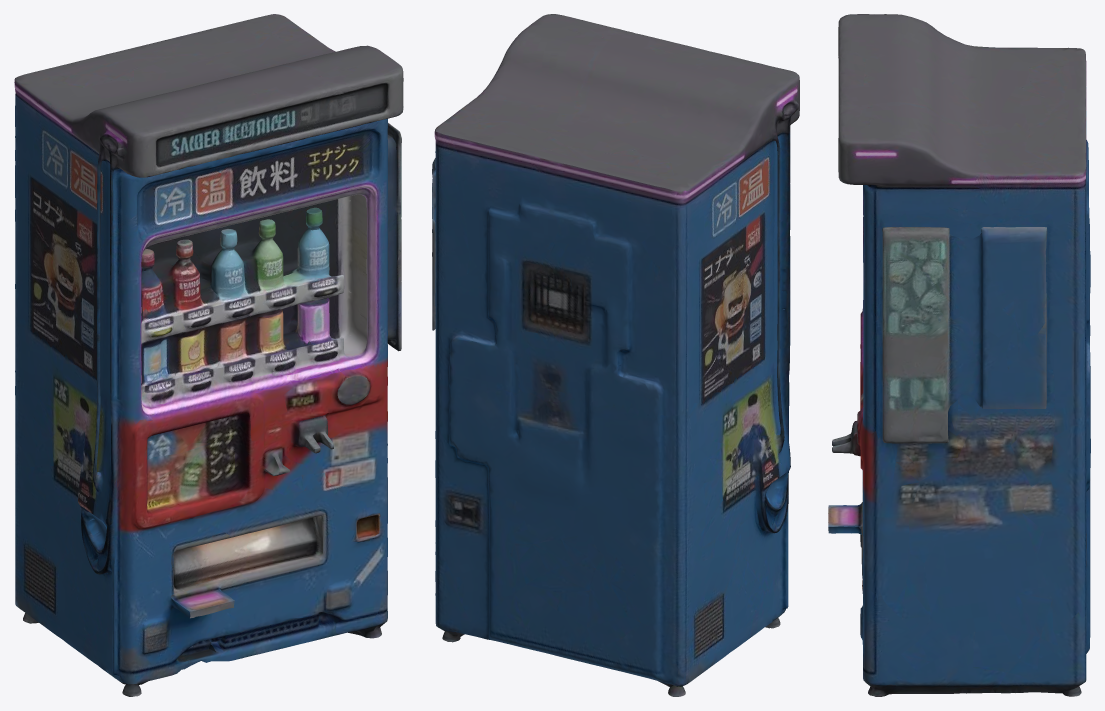
The model's file is vending-machine.glb.
3 renders of one model, left to right at view 1: azimuth 30°, elevation 25°; view 2: azimuth 150°, elevation 25°; view 3: azimuth 270°, elevation 25°, orthographic. The views are drawn at different scales.
Visible parts, largest first — view 1: input; view 2: input; view 3: input.
Boxes of the visible parts, x1,y1,x2,y2 form: input: [14, 14, 403, 696]; input: [432, 14, 799, 696]; input: [828, 14, 1090, 696].
Bounding box in the file's own units: 1.01 × 1.85 × 0.7876.
Materials: 1 (1 with a texture image).
